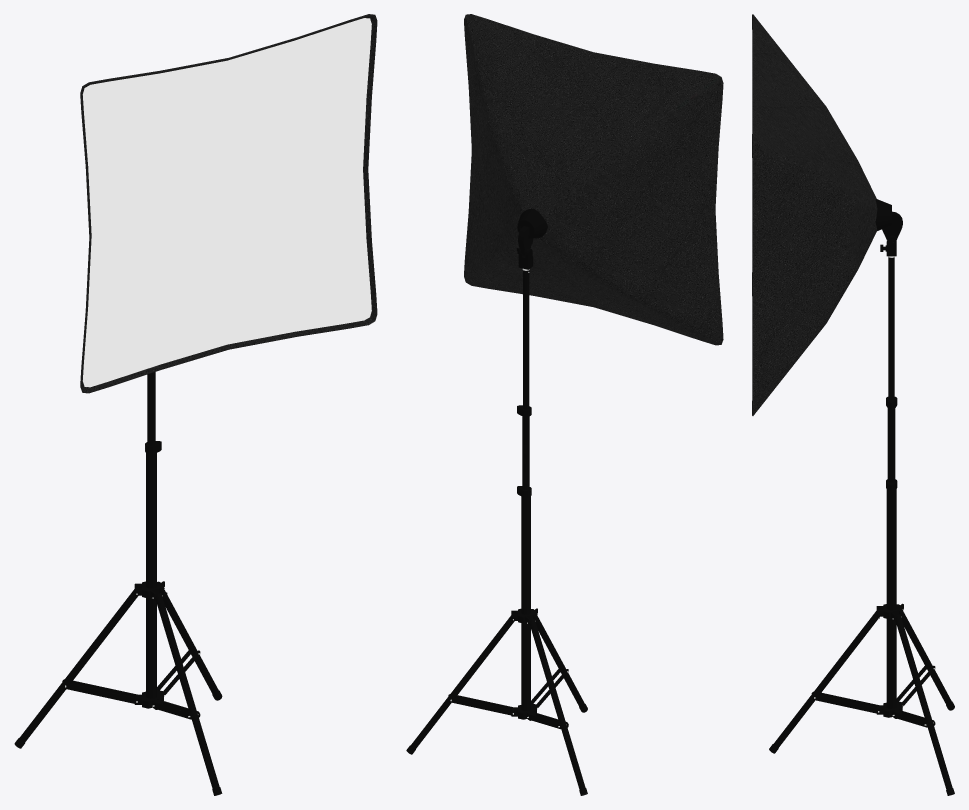
The model's file is softbox.glb.
3 renders of one model, left to right at view 1: azimuth 30°, elevation 25°; view 2: azimuth 150°, elevation 25°; view 3: azimuth 270°, elevation 25°, orthographic. The views are drawn at different scales.
Visible parts, largest first — view 1: #LMP0001_Lightbox, #LMP0001_Bottom, #LMP0001_Middle; view 2: #LMP0001_Lightbox, #LMP0001_Bottom, #LMP0001_Top, #LMP0001_Middle; view 3: #LMP0001_Lightbox, #LMP0001_Bottom, #LMP0001_Top, #LMP0001_Middle.
Part boxes in pixels (x1,y1,x2,y2): #LMP0001_Lightbox: [80, 14, 377, 393]; #LMP0001_Bottom: [14, 441, 222, 795]; #LMP0001_Middle: [147, 372, 155, 445]; #LMP0001_Lightbox: [464, 14, 723, 345]; #LMP0001_Bottom: [406, 486, 587, 795]; #LMP0001_Top: [522, 268, 529, 409]; #LMP0001_Middle: [517, 405, 531, 489]; #LMP0001_Lightbox: [752, 14, 902, 415]; #LMP0001_Bottom: [769, 479, 954, 795]; #LMP0001_Top: [888, 256, 894, 399]; #LMP0001_Middle: [886, 396, 897, 482].
Bounding box in the file's own units: 0.9287 × 2.26 × 0.6135.
Materials: 1 (1 with a texture image).
